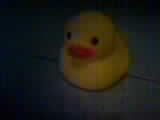duck: (55, 22, 131, 85)
